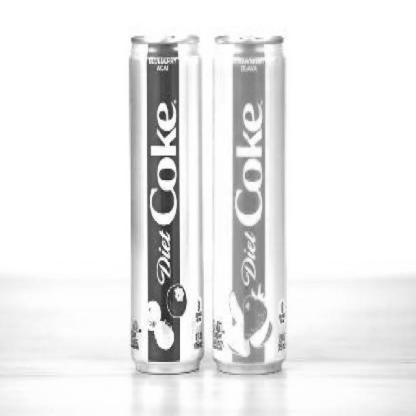alumunium_can: (209, 30, 288, 376), (128, 30, 206, 377)
